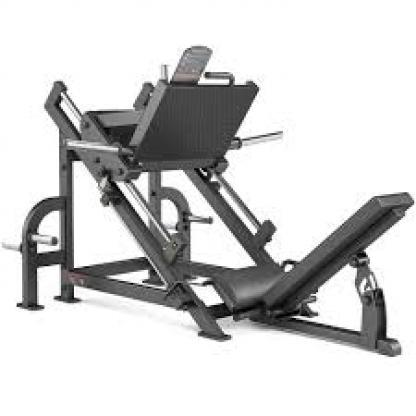leg press: (1, 44, 415, 361)
